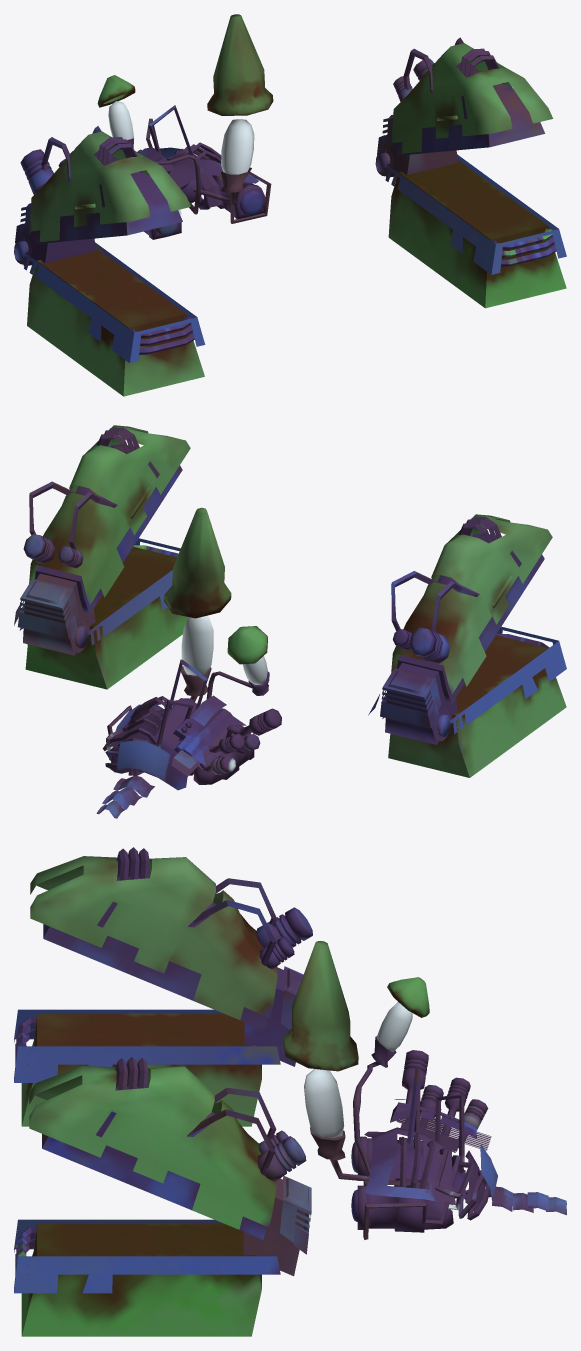
The picture shows the model from 3 angles, top to bottom: view 1: azimuth 30°, elevation 25°; view 2: azimuth 150°, elevation 25°; view 3: azimuth 270°, elevation 25°; orthographic projection. The views are drawn at different scales.
Parts seen in each view (by area): view 1: Cube_042; view 2: Cube_042; view 3: Cube_042.
Boxes of the visible parts, x1,y1,x2,y2 form: Cube_042: (14, 14, 566, 396); Cube_042: (14, 425, 566, 818); Cube_042: (14, 847, 566, 1336).
Bounding box in the file's own units: 368 × 183 × 334.
